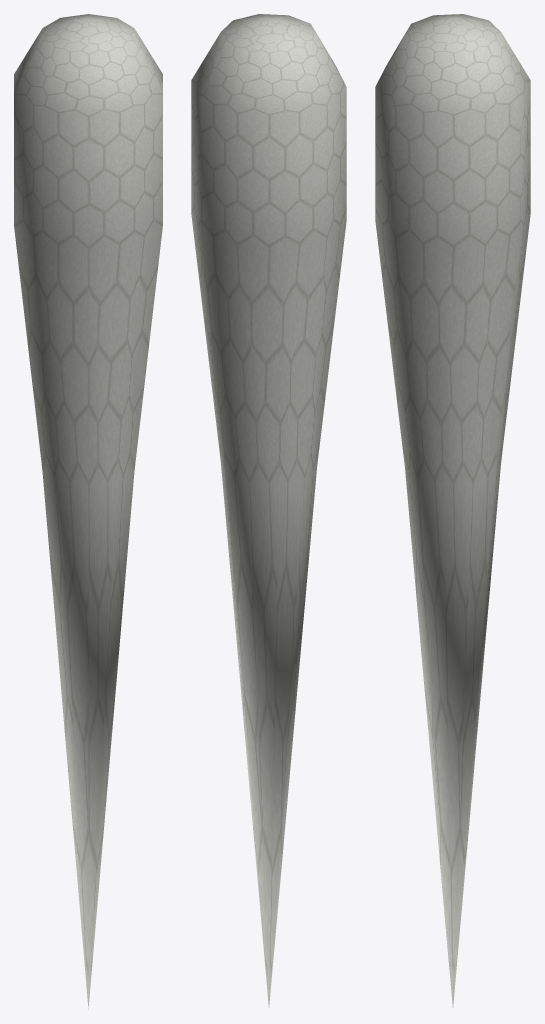
The model's file is 03leg2.obj.
The picture shows the model from 3 angles, left to right: view 1: azimuth 30°, elevation 25°; view 2: azimuth 150°, elevation 25°; view 3: azimuth 270°, elevation 25°; orthographic projection.
Parts seen in each view (by area): view 1: Sphere001; view 2: Sphere001; view 3: Sphere001.
Part boxes in pixels (x1=…): Sphere001: x1=14, y1=14, x2=162, y2=1009; Sphere001: x1=191, y1=14, x2=346, y2=1007; Sphere001: x1=375, y1=14, x2=530, y2=1007.
Size of the model in its own units: 0.5206 by 3.72 by 0.5292.
